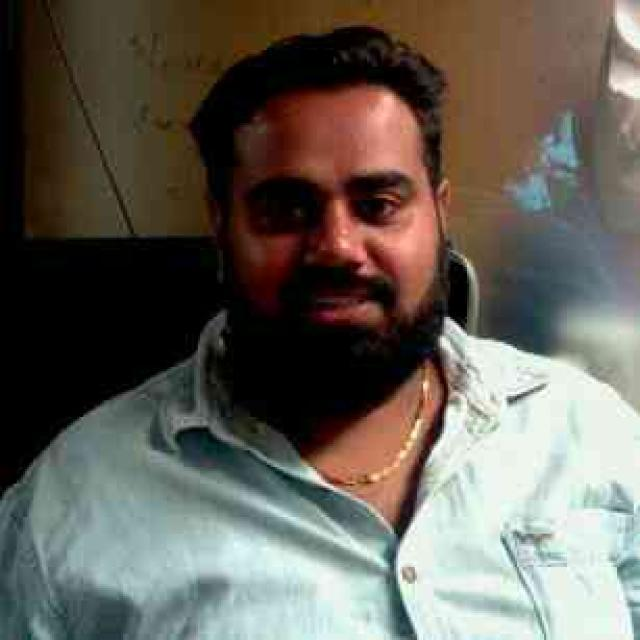puffy_eyes: (248, 197, 319, 232), (351, 206, 408, 228)
